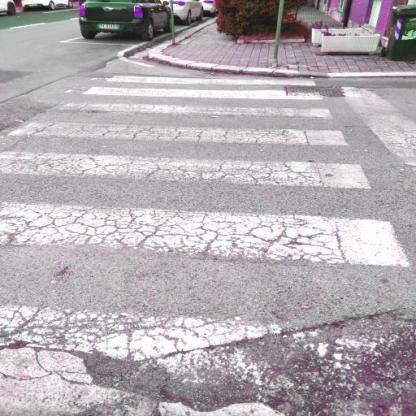crosswalk: (0, 149, 414, 278), (56, 85, 339, 125)
